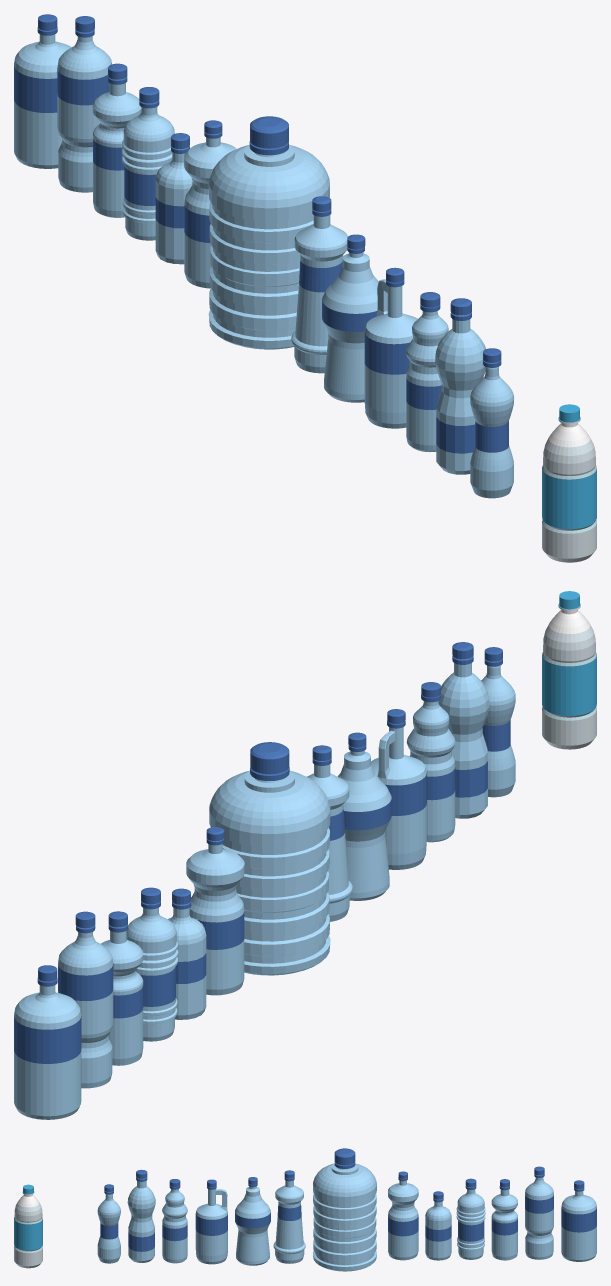
The model's file is enemies.fbx.
The picture shows the model from 3 angles, top to bottom: view 1: azimuth 30°, elevation 25°; view 2: azimuth 150°, elevation 25°; view 3: azimuth 270°, elevation 25°; orthographic projection. The views are drawn at different scales.
Visible parts, largest first — view 1: Cylinder.007, Cylinder, Cylinder.005, Cylinder.012, Cylinder.002, Cylinder.013, Cylinder.004, Cylinder.006, Cylinder.010, Cylinder.001, Cylinder.003, Cylinder.011 (+2 smaller); view 2: Cylinder.007, Cylinder.013, Cylinder, Cylinder.008, Cylinder.012, Cylinder.005, Cylinder.002, Cylinder.004, Cylinder.010, Cylinder.003, Cylinder.011, Cylinder.001 (+2 smaller); view 3: Cylinder.007, Cylinder.013, Cylinder.005, Cylinder.008, Cylinder.012, Cylinder.004, Cylinder.006, Cylinder.002, Cylinder, Cylinder.010, Cylinder.011, Cylinder.003 (+2 smaller).
Part boxes in pixels (bbox=[...]): Cylinder.007: bbox=[208, 116, 329, 349]; Cylinder: bbox=[542, 404, 596, 562]; Cylinder.005: bbox=[322, 234, 378, 402]; Cylinder.012: bbox=[57, 16, 111, 192]; Cylinder.002: bbox=[435, 298, 485, 474]; Cylinder.013: bbox=[14, 14, 71, 168]; Cylinder.004: bbox=[364, 267, 417, 428]; Cylinder.006: bbox=[291, 196, 347, 373]; Cylinder.010: bbox=[122, 87, 174, 240]; Cylinder.001: bbox=[470, 348, 514, 498]; Cylinder.003: bbox=[406, 292, 448, 451]; Cylinder.011: bbox=[92, 63, 141, 217]; Cylinder.007: bbox=[209, 742, 330, 975]; Cylinder.013: bbox=[14, 965, 81, 1119]; Cylinder: bbox=[542, 591, 596, 749]; Cylinder.008: bbox=[186, 827, 244, 995]; Cylinder.012: bbox=[58, 911, 113, 1088]; Cylinder.005: bbox=[337, 732, 391, 900]; Cylinder.002: bbox=[438, 642, 489, 818]; Cylinder.004: bbox=[371, 709, 426, 869]; Cylinder.010: bbox=[126, 887, 178, 1041]; Cylinder.003: bbox=[406, 682, 455, 842]; Cylinder.011: bbox=[101, 911, 143, 1065]; Cylinder.001: bbox=[481, 647, 515, 797]; Cylinder.007: bbox=[313, 1148, 376, 1271]; Cylinder.013: bbox=[561, 1180, 596, 1261]; Cylinder.005: bbox=[235, 1177, 270, 1265]; Cylinder.008: bbox=[388, 1171, 418, 1260]; Cylinder.012: bbox=[525, 1166, 553, 1259]; Cylinder.004: bbox=[195, 1179, 227, 1264]; Cylinder.006: bbox=[273, 1170, 305, 1263]; Cylinder.002: bbox=[127, 1169, 155, 1262]; Cylinder: bbox=[14, 1184, 42, 1268]; Cylinder.010: bbox=[456, 1178, 485, 1259]; Cylinder.011: bbox=[491, 1179, 517, 1260]; Cylinder.003: bbox=[162, 1179, 187, 1263].
Bounding box in the file's own units: 326 × 624 × 2956.
